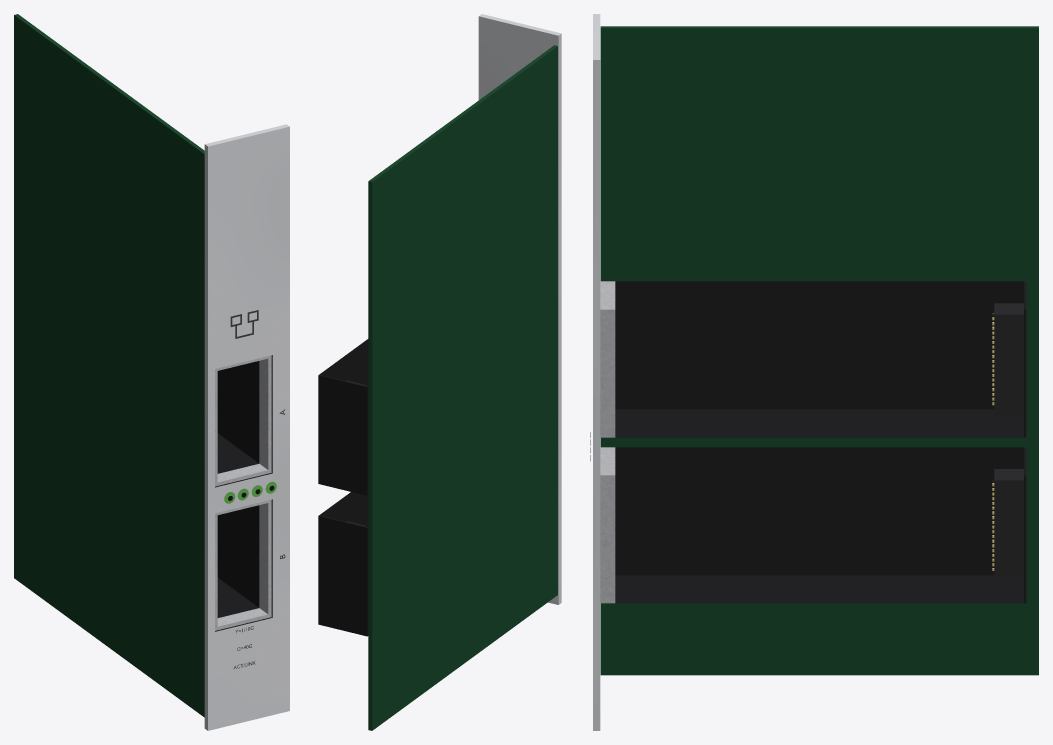
Rendered from XL710-QDA2-FH.glb.
3 views of the same model, side by side, from view 1: azimuth 30°, elevation 25°; view 2: azimuth 150°, elevation 25°; view 3: azimuth 270°, elevation 25° (orthographic). The views are drawn at different scales.
Visible parts, largest first — view 1: Card; view 2: Card; view 3: Card.
Part boxes in pixels (x1,y1,x2,y2): Card: (14, 14, 289, 730); Card: (318, 14, 561, 730); Card: (593, 14, 1038, 730).
Bounding box in the file's own units: 0.0146 × 0.0996 × 0.0604.
Materials: 9 (2 with a texture image).
